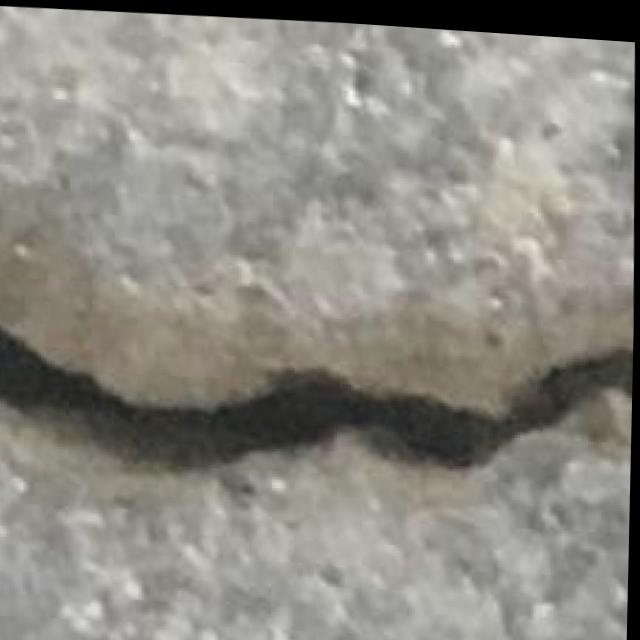Crack: (0, 291, 633, 569)
